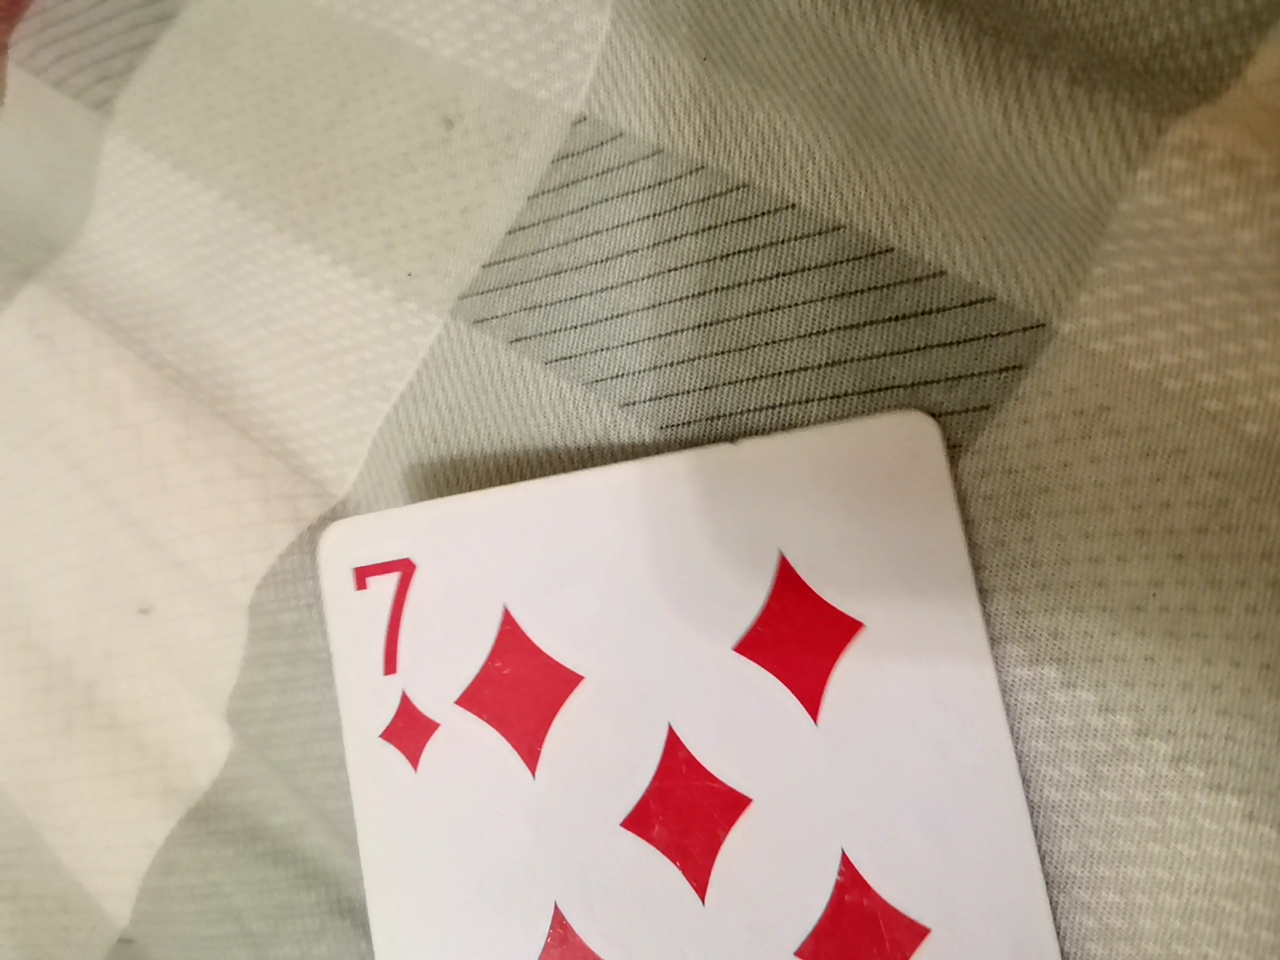fk 7: (308, 416, 1164, 955)
